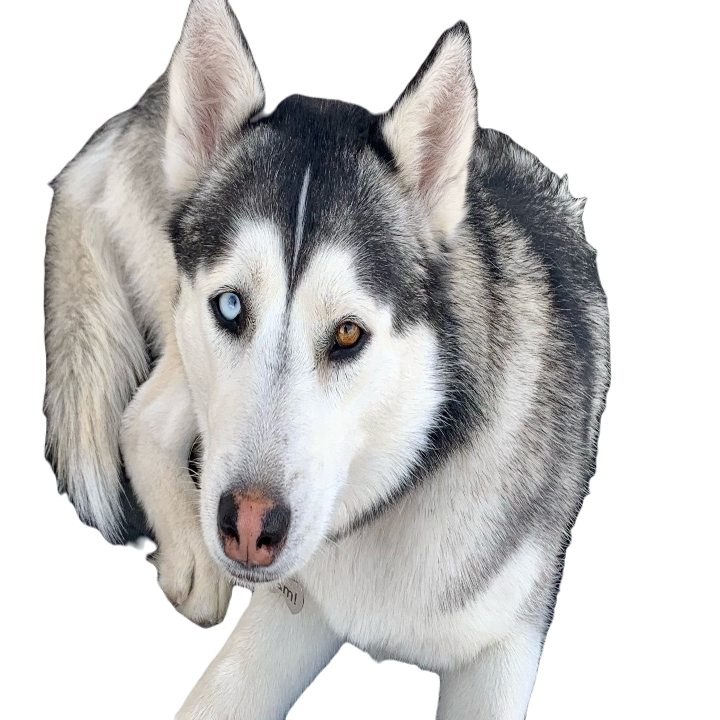Dog: (36, 0, 611, 719)
